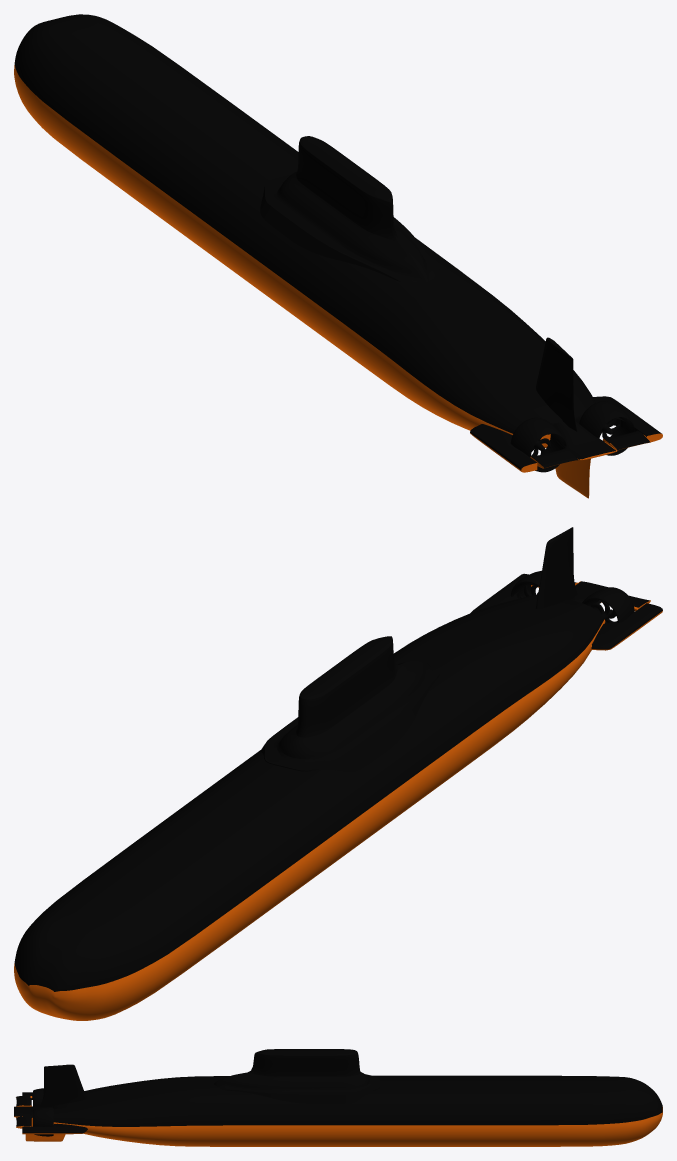
File: BE_SM_SubTyphoon_A01.fbx
3 renders of one model, top to bottom at view 1: azimuth 30°, elevation 25°; view 2: azimuth 150°, elevation 25°; view 3: azimuth 270°, elevation 25°, orthographic. The views are drawn at different scales.
Visible parts, largest first — view 1: BE_SM_SubTyphoon; view 2: BE_SM_SubTyphoon; view 3: BE_SM_SubTyphoon.
Part boxes in pixels (x1,y1,x2,y2): BE_SM_SubTyphoon: (14, 14, 662, 498); BE_SM_SubTyphoon: (14, 527, 662, 1020); BE_SM_SubTyphoon: (14, 1049, 662, 1146).
Size of the model in its own units: 27.89 by 190 by 29.19.
